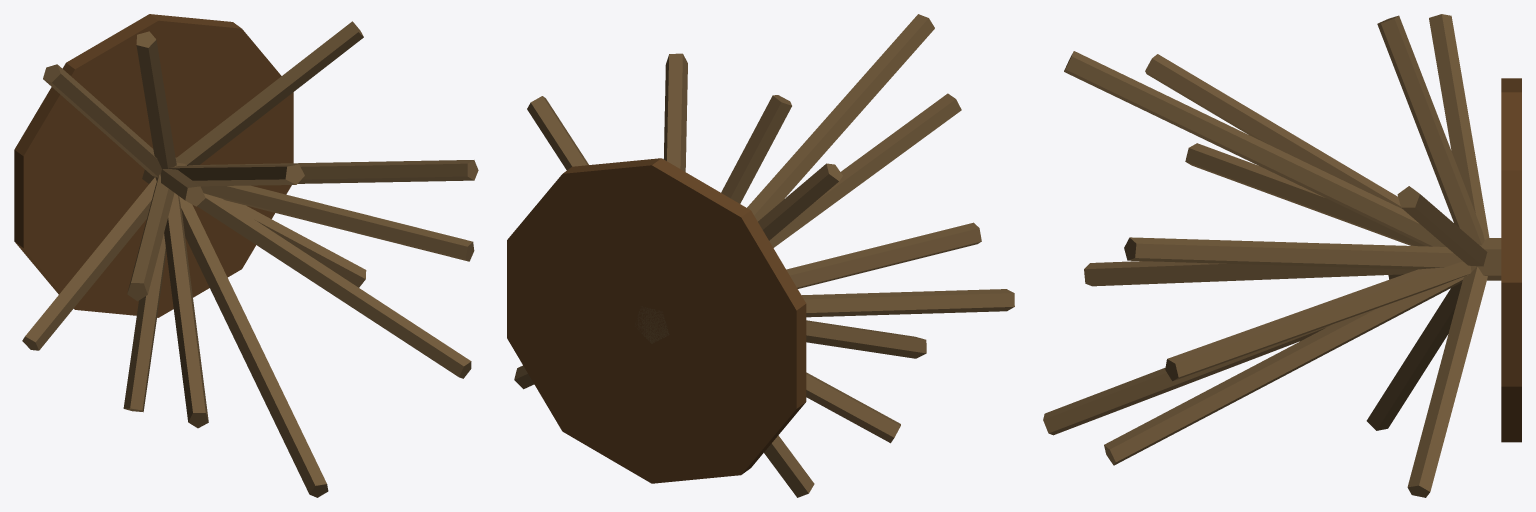
File: 6_dead.obj
3 views of the same model, side by side, from view 1: azimuth 30°, elevation 25°; view 2: azimuth 150°, elevation 25°; view 3: azimuth 270°, elevation 25° (orthographic). The views are drawn at different scales.
Visible parts, largest first — view 1: redberry_6_dead; view 2: redberry_6_dead; view 3: redberry_6_dead.
Boxes of the visible parts, x1=… form: redberry_6_dead: x1=14, y1=14, x2=478, y2=497; redberry_6_dead: x1=507, y1=14, x2=1014, y2=497; redberry_6_dead: x1=1043, y1=14, x2=1521, y2=497.
Size of the model in its own units: 0.4454 by 0.4515 by 0.4649.
